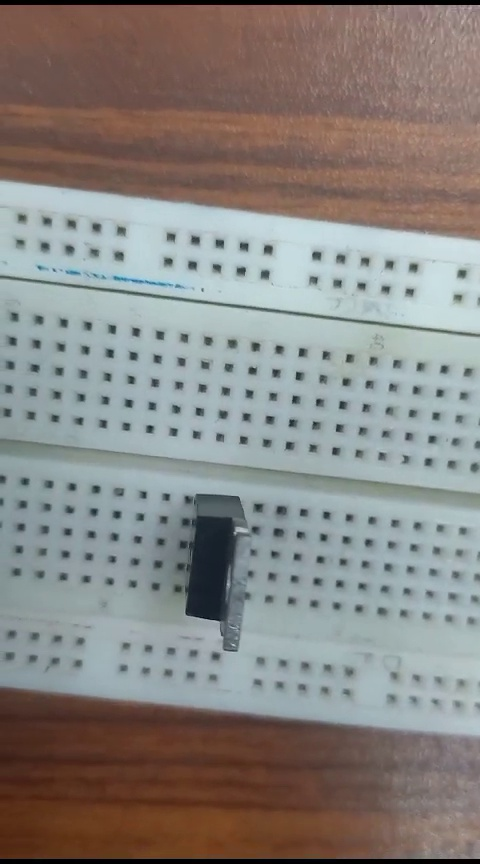voltage regulator: (168, 484, 250, 665)
